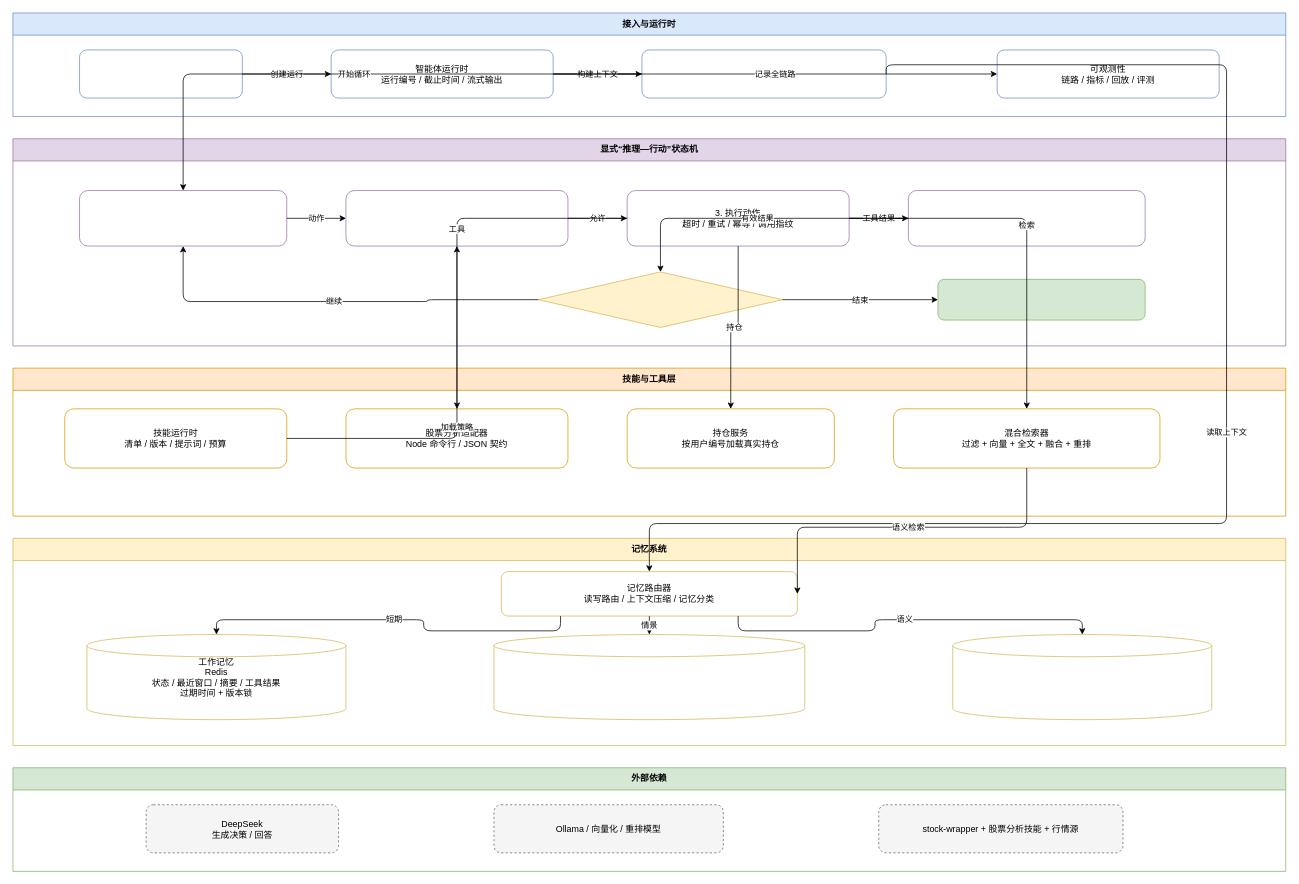
The diagram is 1299 pixels wide and 884 high, and some of its shapes have lost their labels. The shapes that lost their labels are listed below. From the top down, each one's centre as x and y in pixels, then its label:
the point at 160,73: 接口 / 服务器事件流
the point at 763,73: 上下文构建器 窗口 + 摘要 + 事实 + 检索结果
the point at 183,218: 1. 生成决策 调用工具 / 最终回答 / 追问用户
the point at 456,218: 2. 工具策略 白名单 / 结构校验 / 权限 / 前置条件
the point at 1026,218: 4. 校验工具结果 版本 / 时效 / 完整性 / 方向许可
the point at 660,299: 5. 预算与终止 最大步骤 / 最大工具数 / 令牌 / 截止时间
the point at 1041,299: 结构化最终回答
the point at 649,677: 情景记忆 PostgreSQL 运行 / 步骤 / 工具执行 / 反馈
the point at 1082,677: 语义记忆 PostgreSQL + pgvector 知识 / 长期事实 / 来源 / 时效 / 版本
